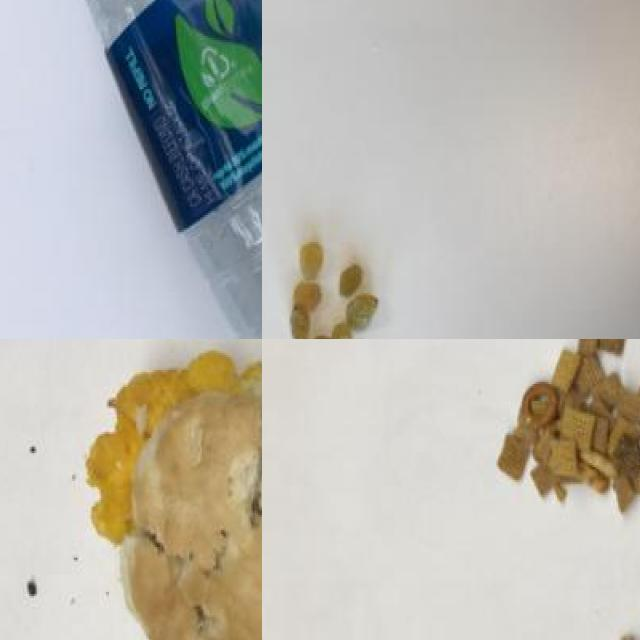compost: (84, 341, 262, 640), (486, 339, 640, 534), (284, 229, 394, 339)
plastic: (64, 0, 262, 339)
